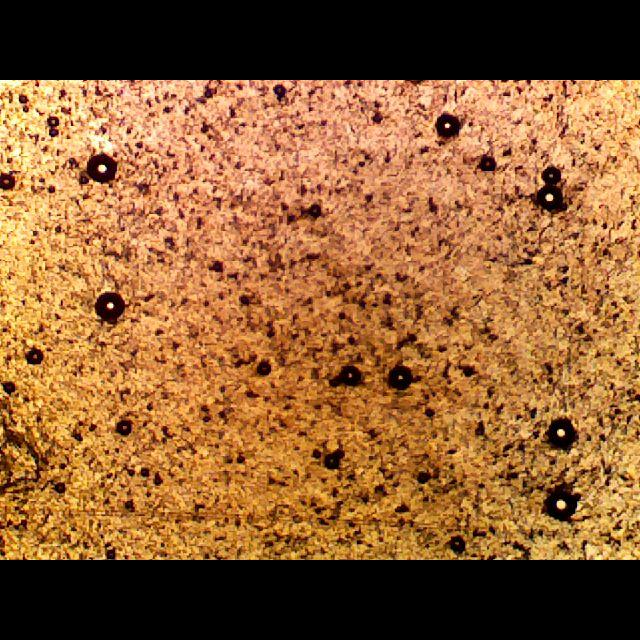microbeads: (86, 147, 118, 185), (94, 293, 126, 323), (537, 188, 563, 208)
